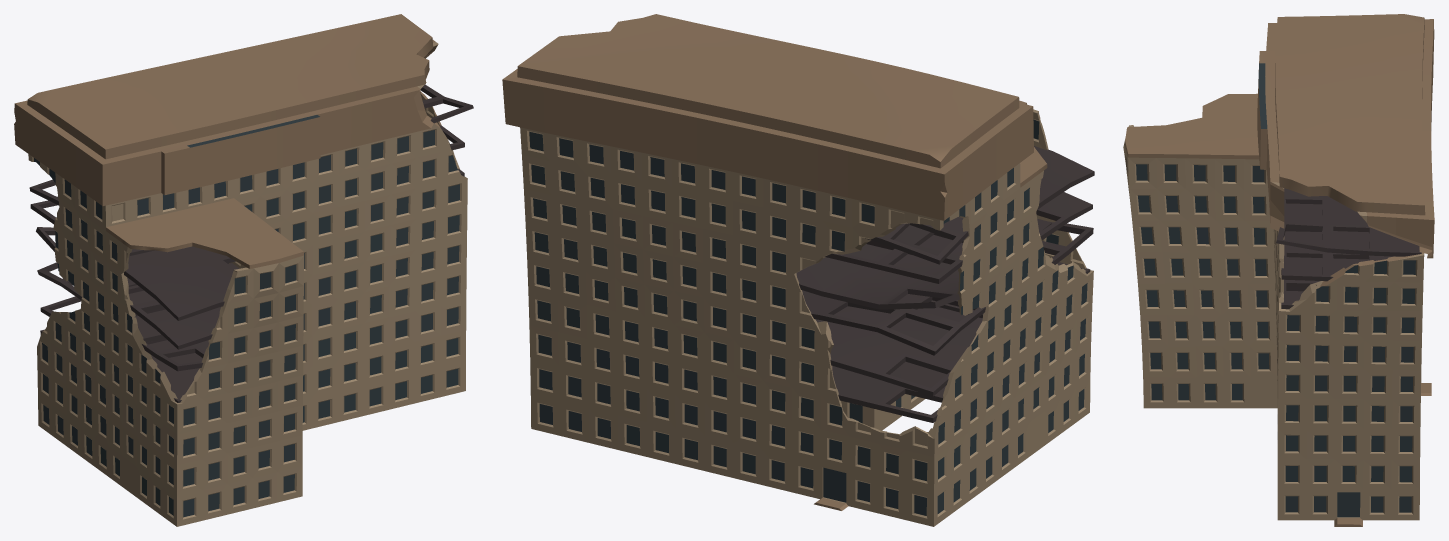
File: LP_PostApoc_BuildingPreset9.fbx
3 views of the same model, side by side, from view 1: azimuth 30°, elevation 25°; view 2: azimuth 150°, elevation 25°; view 3: azimuth 270°, elevation 25° (orthographic). The views are drawn at different scales.
Visible parts, largest first — view 1: BuildingPreset9; view 2: BuildingPreset9; view 3: BuildingPreset9.
Boxes of the visible parts, x1,y1,x2,y2 form: BuildingPreset9: [14, 14, 473, 526]; BuildingPreset9: [502, 14, 1094, 526]; BuildingPreset9: [1123, 14, 1434, 526].
Bounding box in the file's own units: 3593 × 2902 × 2484.
